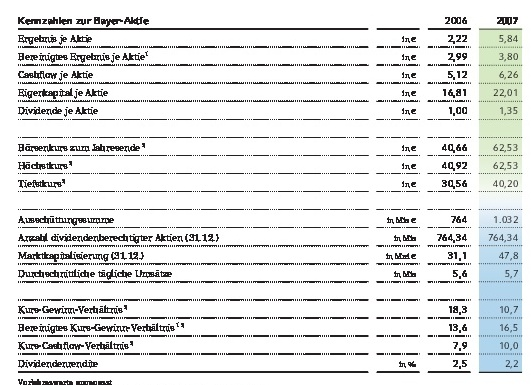table: (0, 0, 531, 385)
